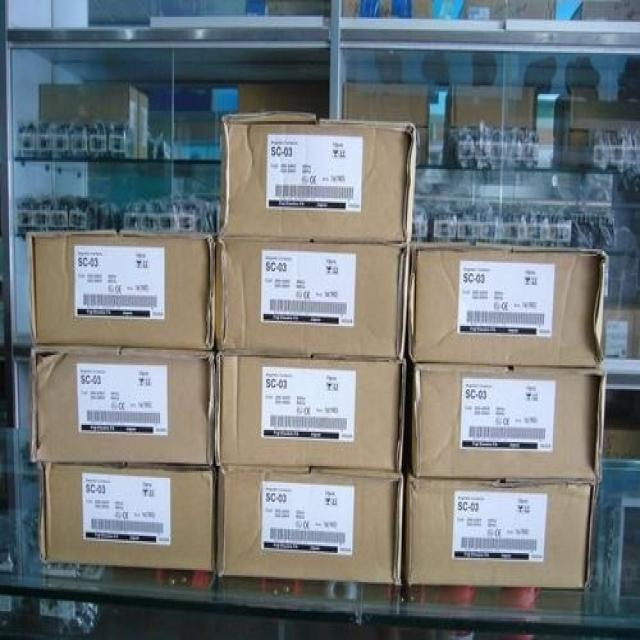box: (216, 111, 419, 242), (407, 239, 607, 369), (402, 464, 599, 591), (403, 362, 608, 483), (215, 236, 411, 360), (214, 350, 407, 473), (27, 229, 216, 350), (216, 464, 404, 585), (29, 345, 216, 464), (37, 463, 216, 572), (38, 84, 140, 159), (443, 85, 538, 148), (553, 89, 640, 137), (342, 80, 430, 126), (238, 82, 329, 118), (602, 304, 640, 358), (458, 0, 557, 20), (604, 406, 640, 459), (553, 130, 594, 171), (342, 0, 433, 17), (571, 0, 640, 20), (246, 0, 332, 15), (138, 92, 148, 159), (417, 126, 429, 166)
